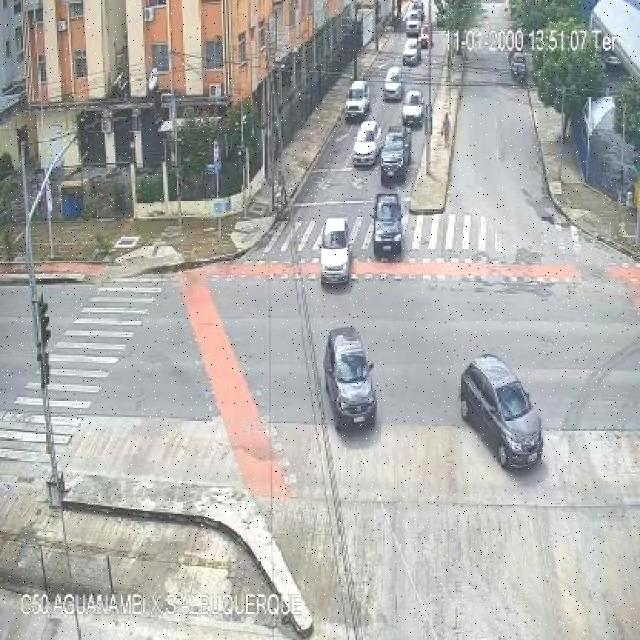Car: (461, 354, 544, 470), (323, 325, 377, 428), (319, 217, 353, 283), (371, 191, 403, 258), (351, 120, 386, 168), (345, 79, 373, 122), (384, 64, 407, 102), (400, 90, 424, 126), (403, 40, 423, 64)
